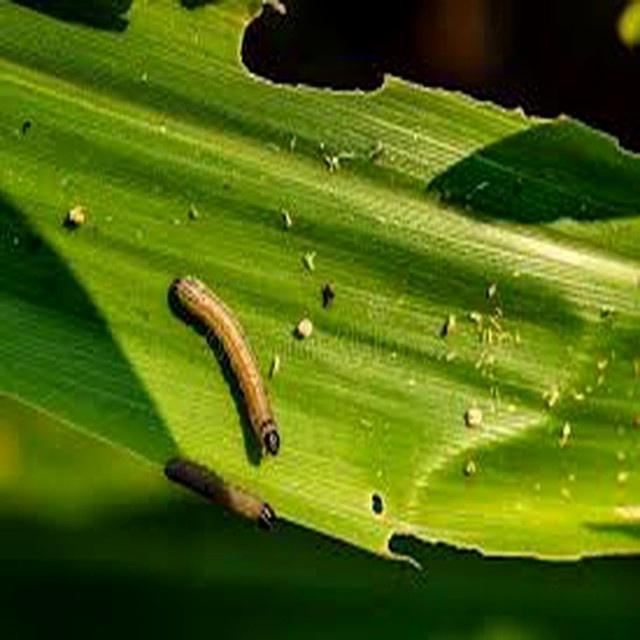gusano_cogollero: (168, 269, 284, 462)
